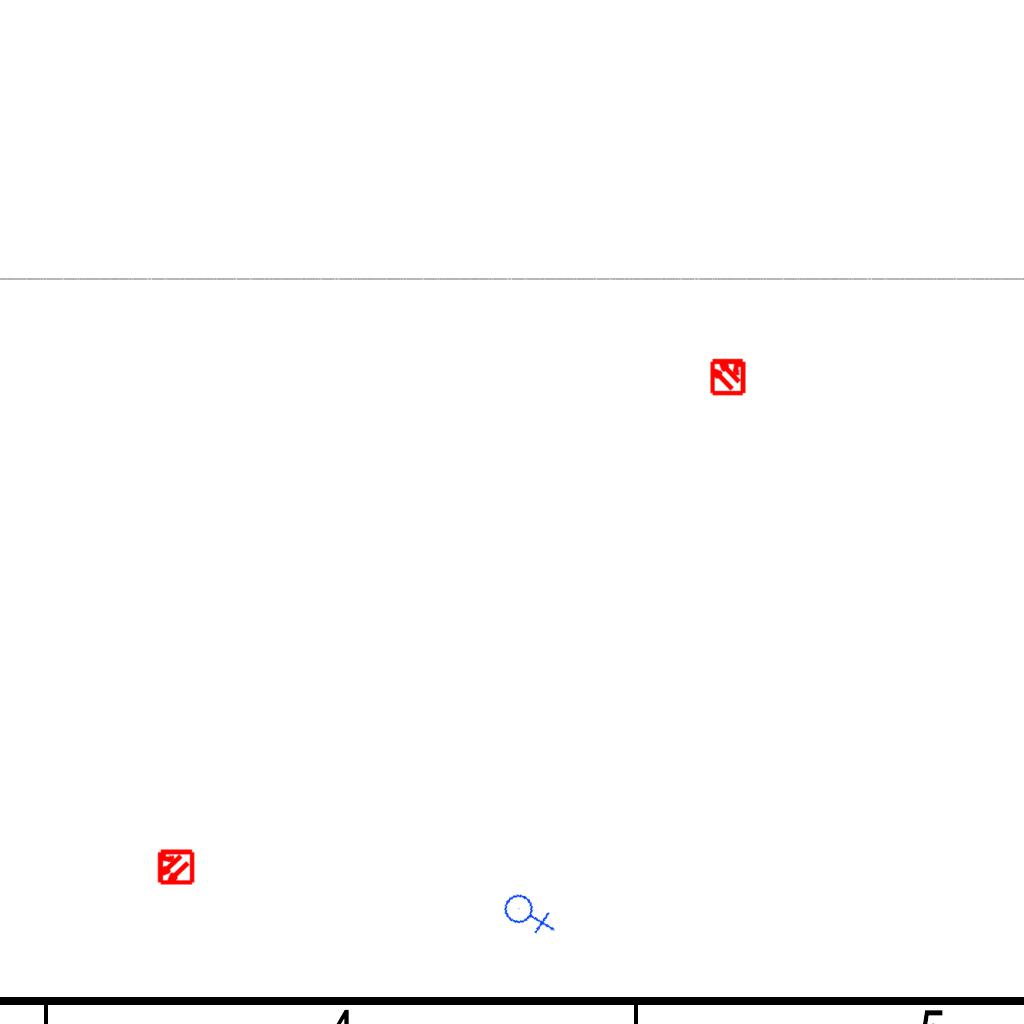Elektroanschluss_allgemein_230V_Geraeteanschlussdose_230V: (499, 882, 558, 943)
OT_Multisensormelder_(Kombination_RMO_WMD): (700, 348, 756, 404), (147, 839, 203, 895)
